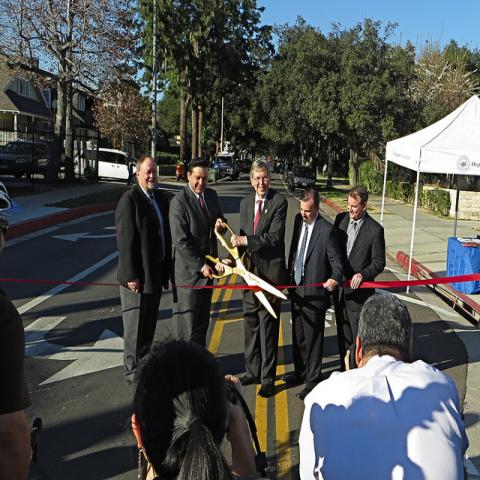car: (1, 139, 76, 182), (74, 147, 138, 184), (288, 166, 316, 192), (240, 159, 252, 172), (267, 162, 275, 172)
truck: (213, 154, 237, 182)
